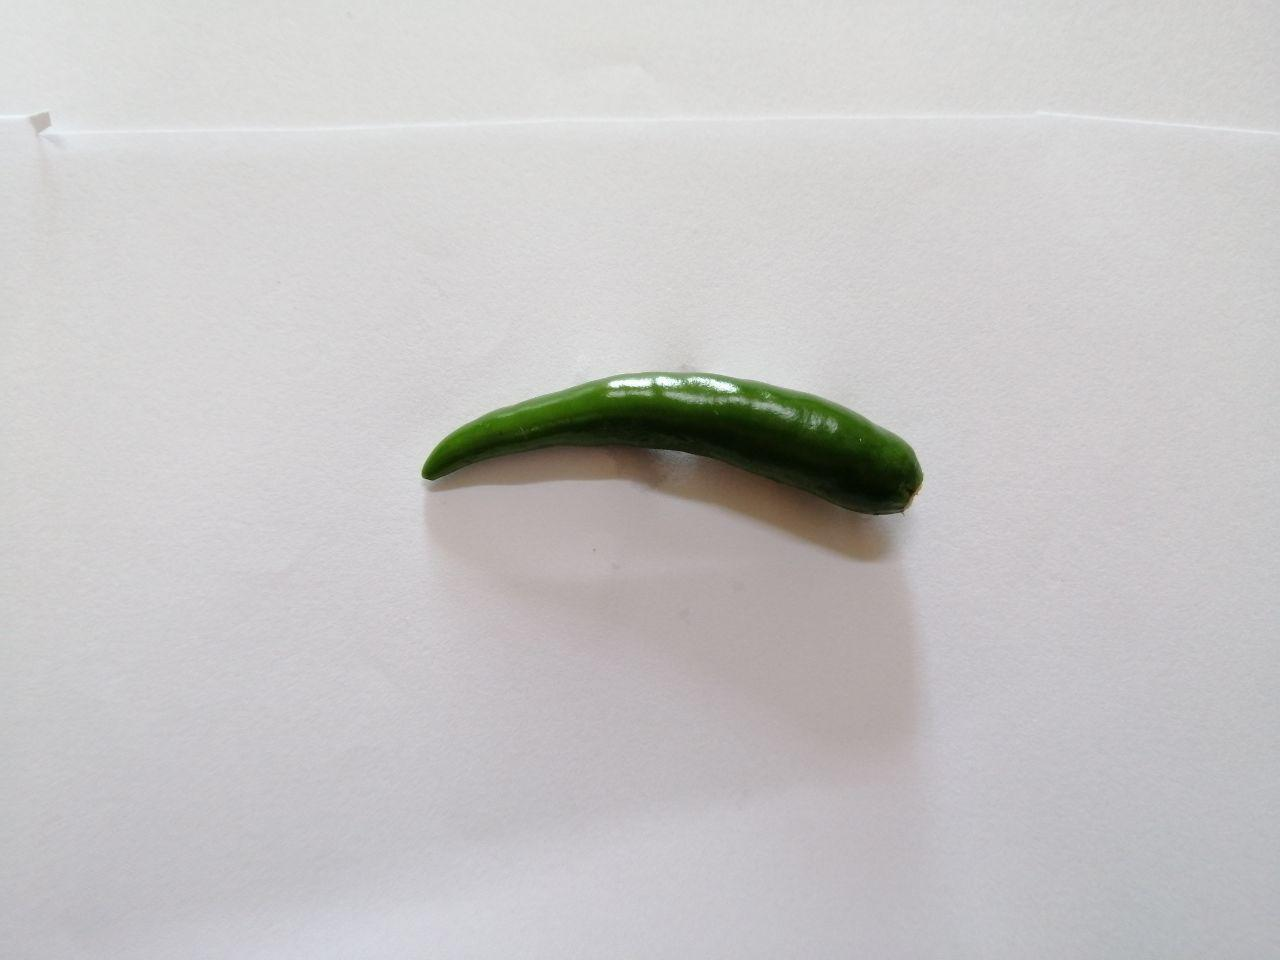lada hijau: (410, 342, 953, 584)
